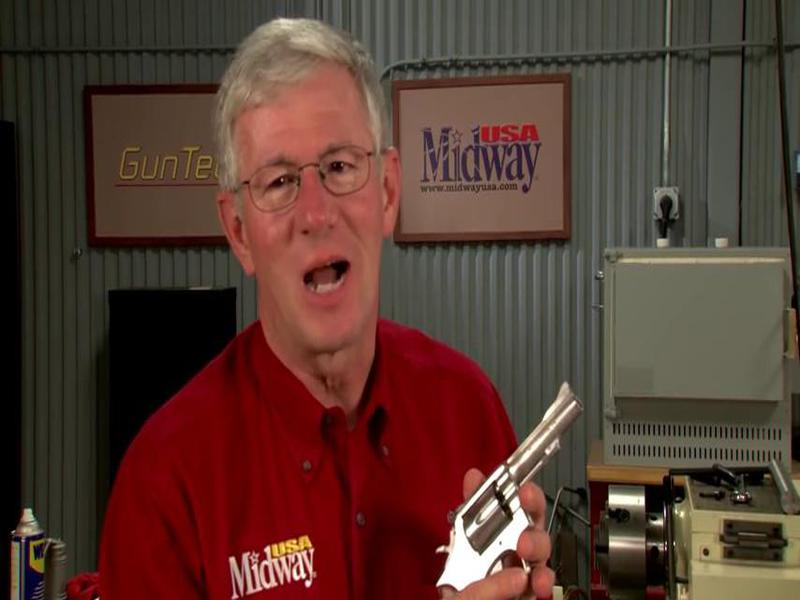Revolver: (414, 371, 590, 596)
